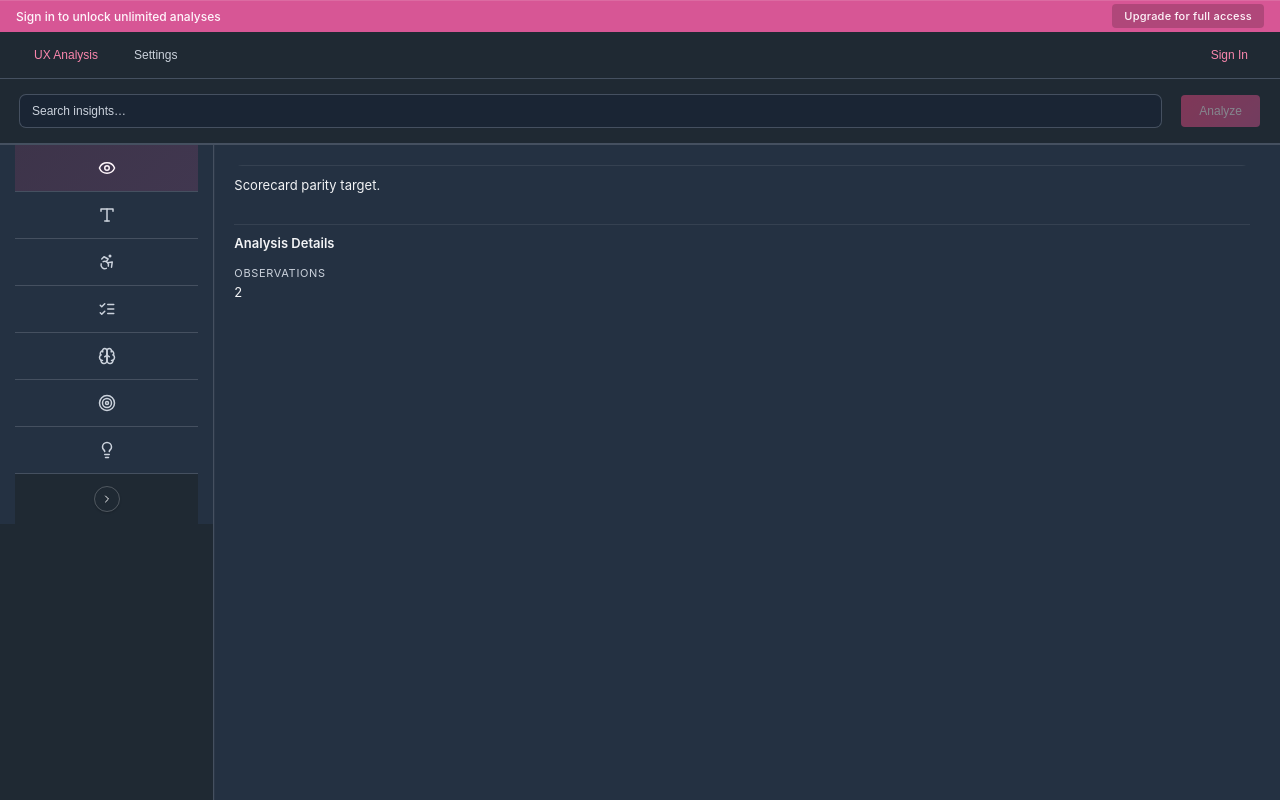
it: Heuristics tab — Chrome parity scorecard › renders strengths and weaknesses from heuristicScorecard payload
The width and height of the screenshot is (1280, 800).
Step 1. Click the tab with id "analysis-tab-heuristics" → click(107, 310), box [15,286,198,333]
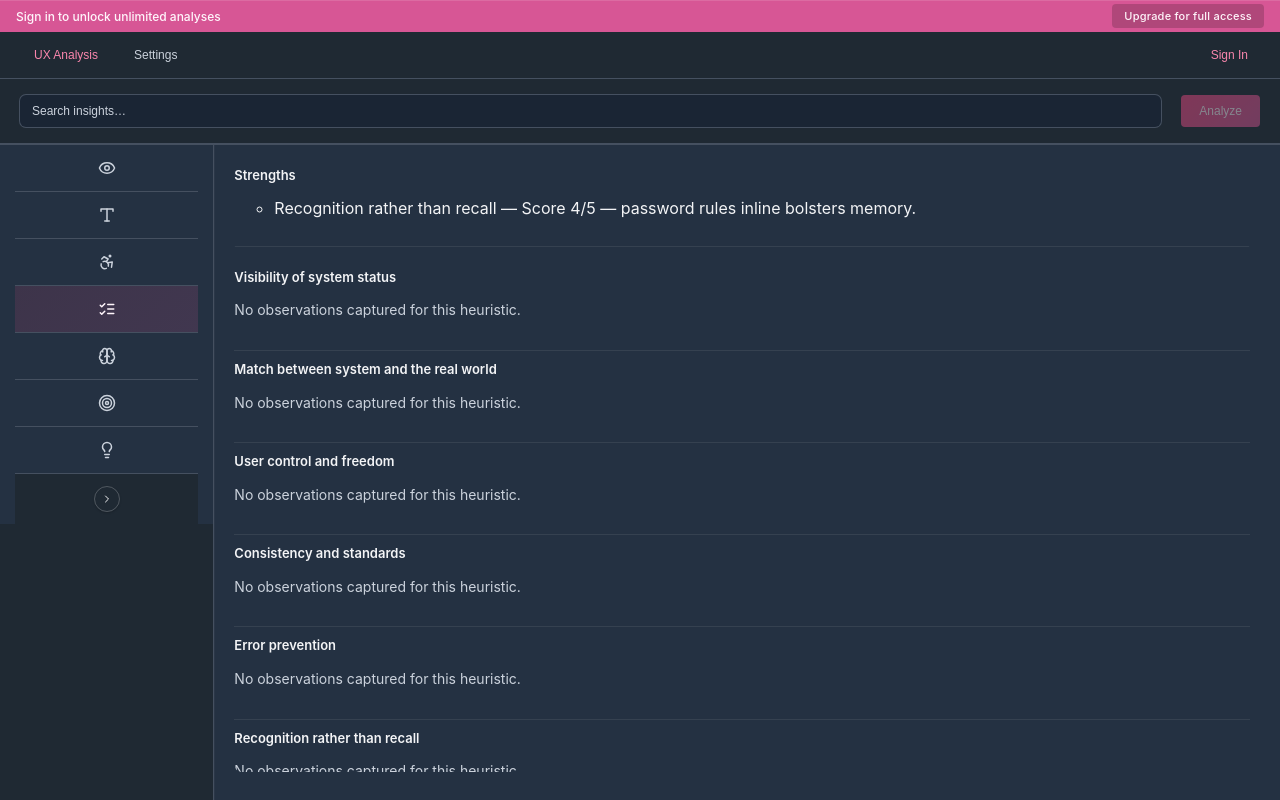
Check: the element that starts with "Strengths" is shown, box [234,165,1250,251]
